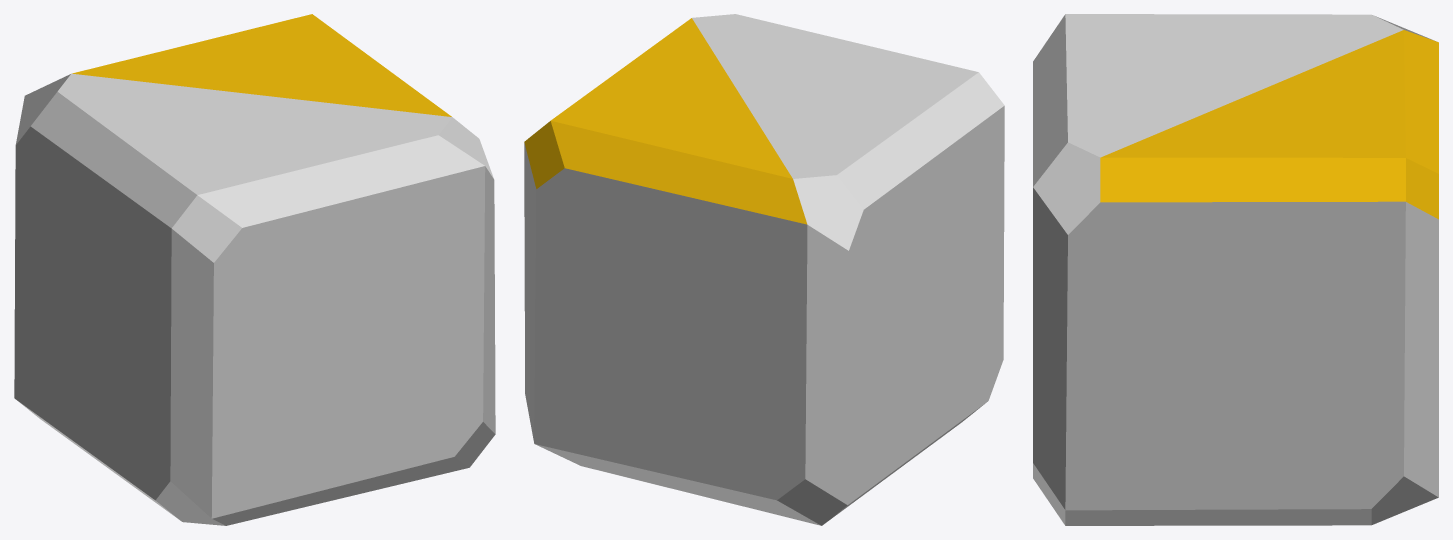
Rendered from cube_NO_Arrow.glb.
The picture shows the model from 3 angles, left to right: view 1: azimuth 30°, elevation 25°; view 2: azimuth 150°, elevation 25°; view 3: azimuth 270°, elevation 25°; orthographic projection. The views are drawn at different scales.
Parts seen in each view (by area): view 1: shard2; view 2: shard2; view 3: shard2.
Part boxes in pixels (left/top/right/bottom): shard2: left=14, top=14, right=495, bottom=525; shard2: left=524, top=14, right=1004, bottom=525; shard2: left=1033, top=14, right=1438, bottom=525.
Bounding box in the file's own units: 0.2525 × 0.2525 × 0.2525.
